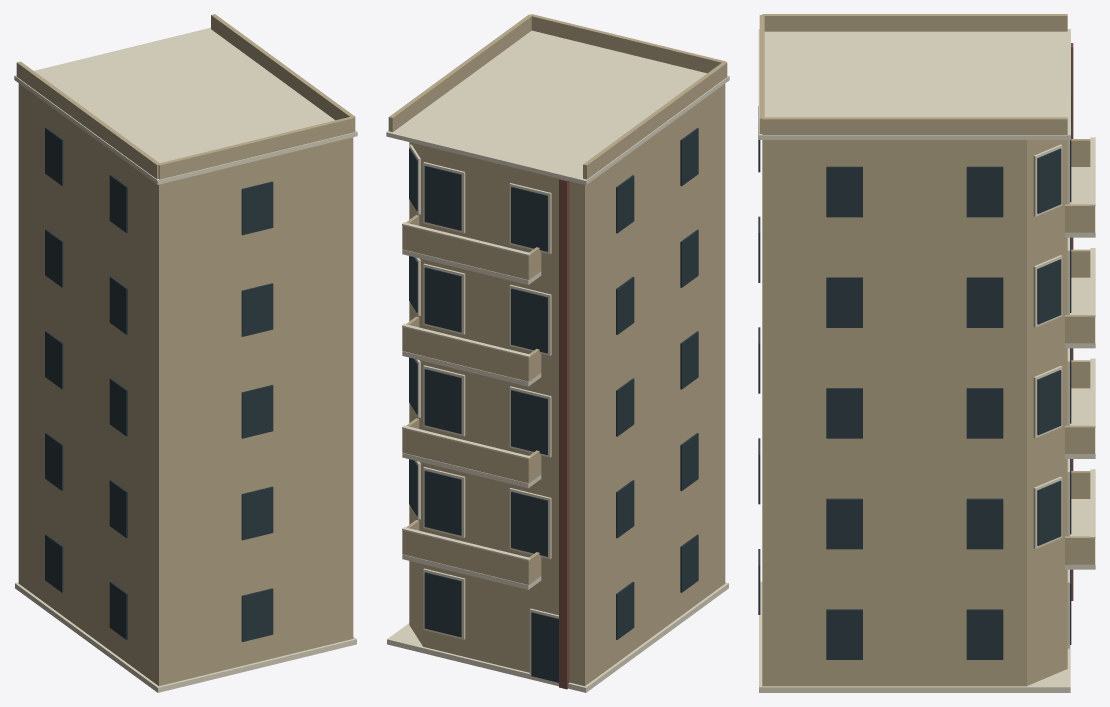
File: KOL_T3_MOD_05.fbx
3 views of the same model, side by side, from view 1: azimuth 30°, elevation 25°; view 2: azimuth 150°, elevation 25°; view 3: azimuth 270°, elevation 25° (orthographic). The views are drawn at different scales.
Visible parts, largest first — view 1: KOL_T3_MOD_05__Body, KOL_T3_MOD_05__Trim, KOL_T3_MOD_05__Dark; view 2: KOL_T3_MOD_05__Body, KOL_T3_MOD_05__Trim, KOL_T3_MOD_05__Dark, KOL_T3_MOD_05__Accent; view 3: KOL_T3_MOD_05__Body, KOL_T3_MOD_05__Trim, KOL_T3_MOD_05__Dark.
Boxes of the visible parts, left/top/right/bottom form: KOL_T3_MOD_05__Body: left=16, top=14, right=355, bottom=685; KOL_T3_MOD_05__Trim: left=14, top=27, right=357, bottom=692; KOL_T3_MOD_05__Dark: left=45, top=127, right=273, bottom=641; KOL_T3_MOD_05__Body: left=388, top=14, right=727, bottom=686; KOL_T3_MOD_05__Trim: left=386, top=30, right=729, bottom=692; KOL_T3_MOD_05__Dark: left=409, top=128, right=698, bottom=682; KOL_T3_MOD_05__Accent: left=559, top=178, right=569, bottom=689; KOL_T3_MOD_05__Body: left=759, top=14, right=1094, bottom=686; KOL_T3_MOD_05__Trim: left=758, top=29, right=1095, bottom=692; KOL_T3_MOD_05__Dark: left=758, top=76, right=1071, bottom=659.
Size of the model in its own units: 24.74 by 62.15 by 33.12.
